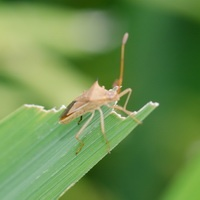insect: (59, 33, 140, 154)
